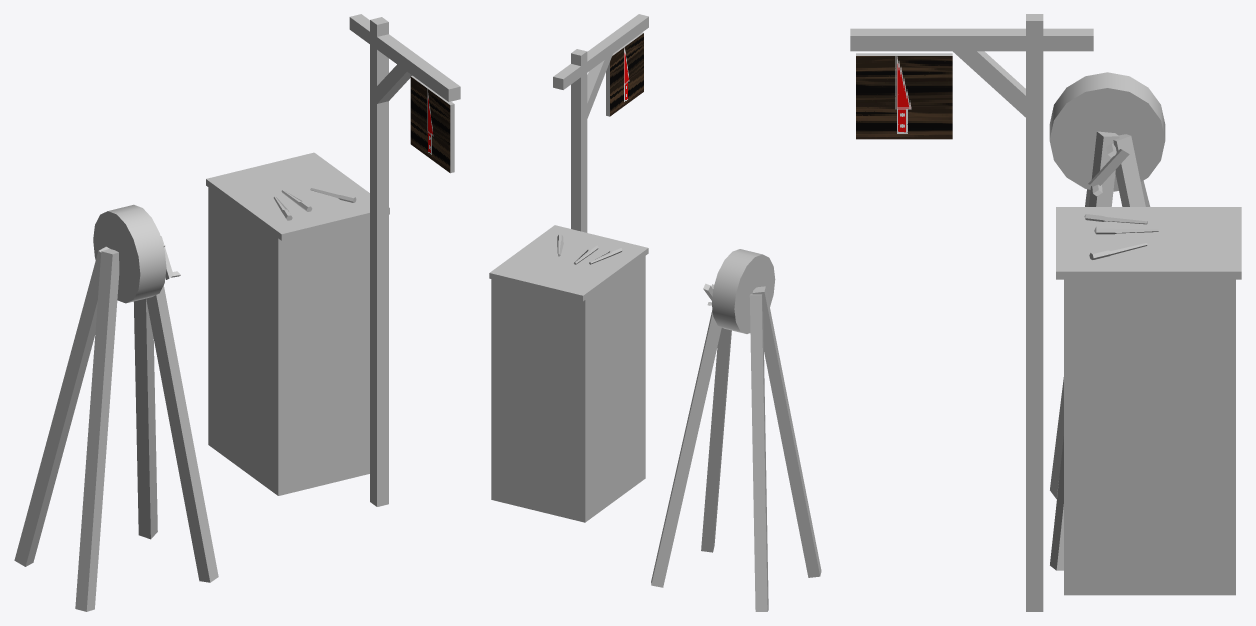
Rendered from knifegrinder.fbx.
The picture shows the model from 3 angles, left to right: view 1: azimuth 30°, elevation 25°; view 2: azimuth 150°, elevation 25°; view 3: azimuth 270°, elevation 25°; orthographic projection. The views are drawn at different scales.
Parts seen in each view (by area): view 1: table1_makg (×2), porteEnseigne1_makg, pied4_makg, pied6_makg, pied5_makg, meule_makg, pied7_makg, enseigne_makg, porteEnseigne_makg, porteEnseigne2_makg; view 2: table1_makg (×2), pied5_makg, pied4_makg, pied7_makg, meule_makg, pied6_makg, porteEnseigne1_makg, enseigne_makg, porteEnseigne_makg, porteEnseigne2_makg; view 3: table1_makg, porteEnseigne1_makg, meule_makg, enseigne_makg, porteEnseigne_makg, pied6_makg, porteEnseigne2_makg, pied7_makg, pied4_makg.
Boxes of the visible parts, x1,y1,x2,y2 form: table1_makg (×2): (206, 152, 389, 495); porteEnseigne1_makg: (370, 17, 388, 506); pied4_makg: (75, 249, 119, 611); pied6_makg: (146, 285, 218, 582); pied5_makg: (14, 246, 109, 566); meule_makg: (93, 204, 166, 303); pied7_makg: (134, 298, 157, 539); enseigne_makg: (410, 76, 454, 173); porteEnseigne_makg: (349, 14, 460, 101); porteEnseigne2_makg: (374, 60, 412, 104); table1_makg (×2): (489, 225, 648, 522); pied5_makg: (749, 293, 768, 611); pied4_makg: (752, 286, 821, 577); pied7_makg: (651, 310, 721, 587); meule_makg: (711, 249, 775, 333); pied6_makg: (701, 327, 731, 552); porteEnseigne1_makg: (571, 49, 587, 232); enseigne_makg: (606, 32, 643, 116); porteEnseigne_makg: (553, 14, 648, 89); porteEnseigne2_makg: (582, 49, 612, 118); table1_makg: (1056, 207, 1241, 595); porteEnseigne1_makg: (1026, 14, 1043, 611); meule_makg: (1049, 72, 1165, 191); enseigne_makg: (856, 53, 952, 139); porteEnseigne_makg: (850, 28, 1093, 51); pied6_makg: (1050, 131, 1119, 570); porteEnseigne2_makg: (953, 40, 1038, 119); pied7_makg: (1113, 134, 1145, 206); pied4_makg: (1050, 189, 1090, 499).
Size of the model in its own units: 320 by 520 by 285.
